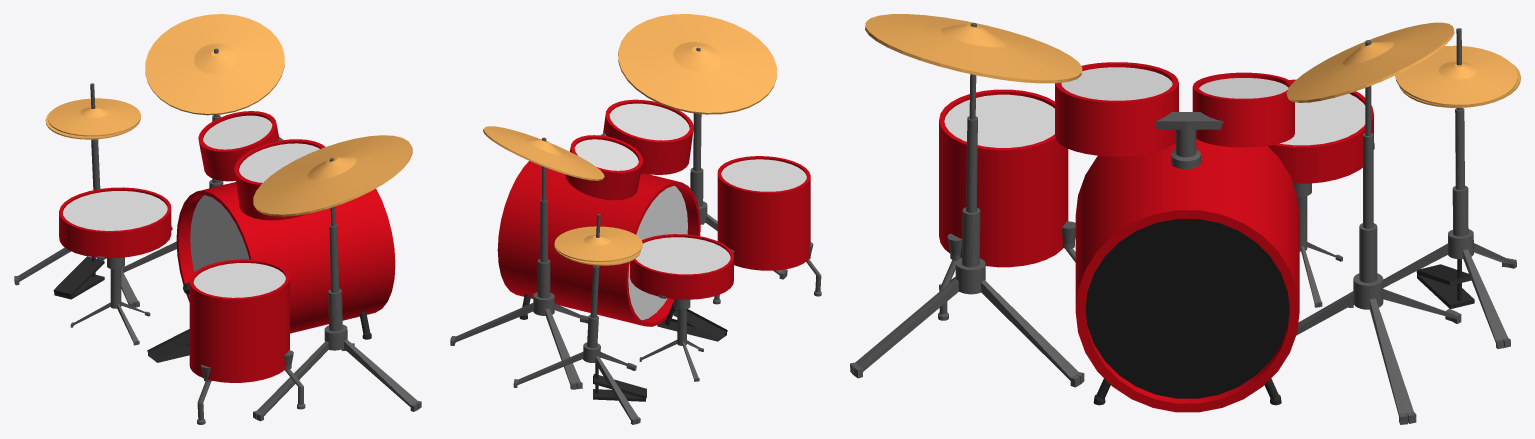
Rendered from drums_lowpoly.fbx.
3 views of the same model, side by side, from view 1: azimuth 30°, elevation 25°; view 2: azimuth 150°, elevation 25°; view 3: azimuth 270°, elevation 25° (orthographic). The views are drawn at different scales.
Parts seen in each view (by area): view 1: Cylinder, Cylinder.004, Circle, Circle.001, Cylinder.002, Cylinder.012, Cylinder.009, Cylinder.010, Circle.002, Cylinder.015, Cylinder.008, Cylinder.016 (+4 smaller); view 2: Cylinder, Circle.001, Cylinder.004, Cylinder.002, Cylinder.010, Cylinder.009, Cylinder.011, Circle, Circle.002, Cylinder.015, Cylinder.012, Plane.002 (+2 smaller); view 3: Cylinder, Cylinder.004, Cylinder.010, Circle.001, Cylinder.012, Cylinder.009, Cylinder.011, Cylinder.002, Circle, Circle.002, Cylinder.015, Cylinder.001 (+3 smaller).
Boxes of the visible parts, left/top/right/bottom form: Cylinder: left=176, top=182, right=395, bottom=333; Cylinder.004: left=189, top=259, right=289, bottom=382; Circle: left=145, top=14, right=284, bottom=115; Circle.001: left=253, top=135, right=412, bottom=216; Cylinder.002: left=59, top=187, right=171, bottom=258; Cylinder.012: left=253, top=158, right=421, bottom=421; Cylinder.009: left=198, top=111, right=279, bottom=181; Cylinder.010: left=234, top=139, right=324, bottom=220; Circle.002: left=47, top=98, right=140, bottom=136; Cylinder.015: left=14, top=83, right=139, bottom=308; Cylinder.008: left=70, top=226, right=172, bottom=345; Cylinder.016: left=53, top=256, right=104, bottom=299; Cylinder: left=497, top=161, right=700, bottom=326; Circle.001: left=618, top=14, right=776, bottom=114; Cylinder.004: left=717, top=156, right=810, bottom=270; Cylinder.002: left=630, top=234, right=733, bottom=299; Cylinder.010: left=603, top=99, right=693, bottom=174; Cylinder.009: left=565, top=135, right=643, bottom=200; Cylinder.011: left=450, top=137, right=588, bottom=389; Circle: left=483, top=126, right=604, bottom=180; Circle.002: left=554, top=226, right=642, bottom=261; Cylinder.015: left=513, top=214, right=640, bottom=424; Cylinder.012: left=690, top=47, right=787, bottom=279; Plane.002: left=657, top=302, right=727, bottom=341; Cylinder: left=1075, top=139, right=1299, bottom=412; Cylinder.004: left=939, top=89, right=1068, bottom=267; Cylinder.010: left=1055, top=62, right=1178, bottom=156; Circle.001: left=865, top=14, right=1082, bottom=83; Cylinder.012: left=850, top=22, right=1084, bottom=387; Cylinder.009: left=1192, top=72, right=1294, bottom=147; Cylinder.011: left=1296, top=40, right=1461, bottom=424; Cylinder.002: left=1268, top=79, right=1373, bottom=183; Circle: left=1286, top=22, right=1454, bottom=102; Circle.002: left=1395, top=45, right=1517, bottom=106; Cylinder.015: left=1348, top=28, right=1516, bottom=348; Cylinder.001: left=1155, top=112, right=1223, bottom=169.
Bounding box in the file's own units: 755 × 672 × 1197.
